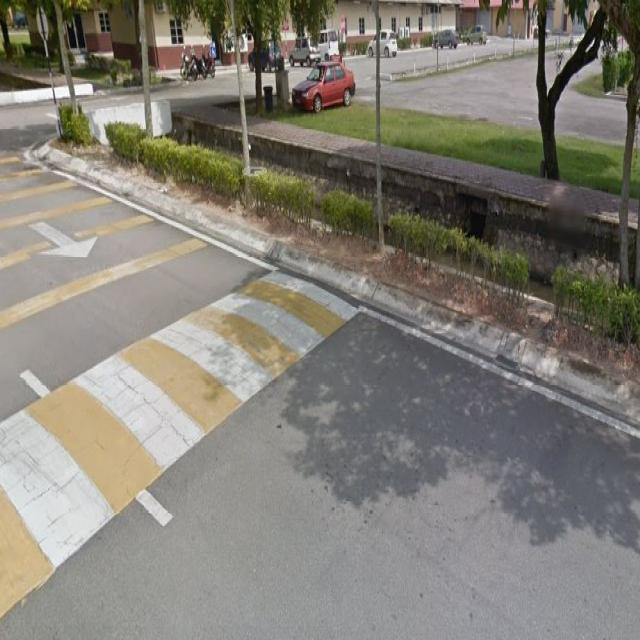speed-bump: (0, 231, 362, 626)
